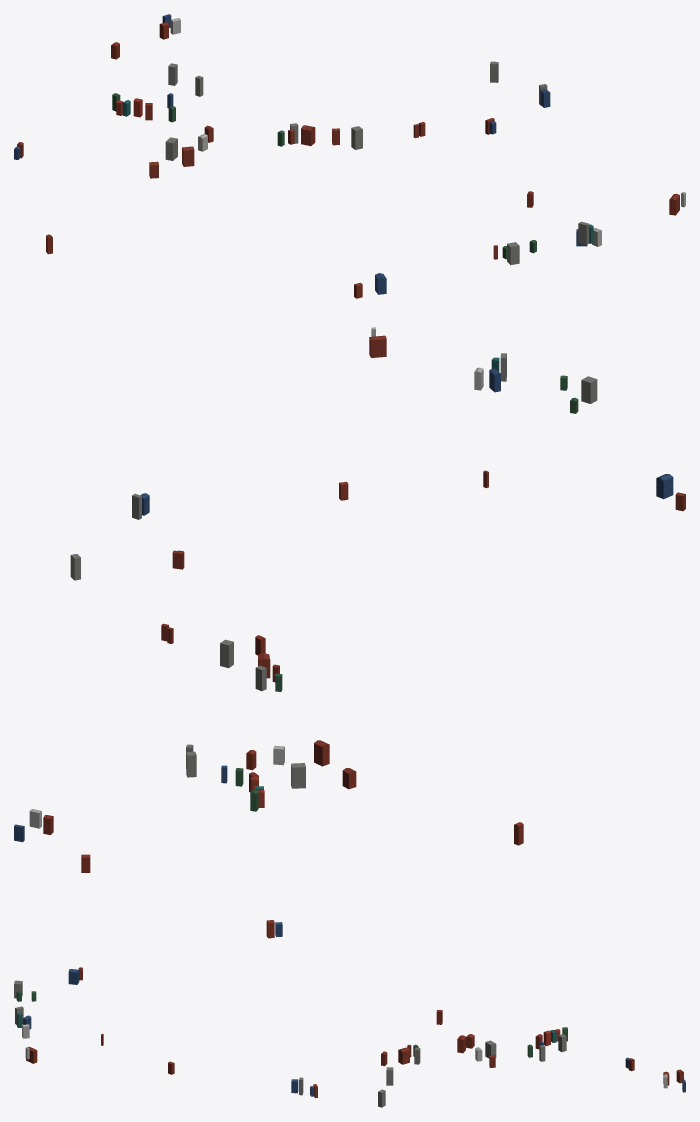
Rendered from near-15-27349-14868.18381e97.glb.
The picture shows the model from 3 angles, top to bottom: view 1: azimuth 30°, elevation 25°; view 2: azimuth 150°, elevation 25°; view 3: azimuth 270°, elevation 25°; orthographic projection. The views are drawn at different scales.
Bounding box in the file's own units: 568 × 220 × 987.
